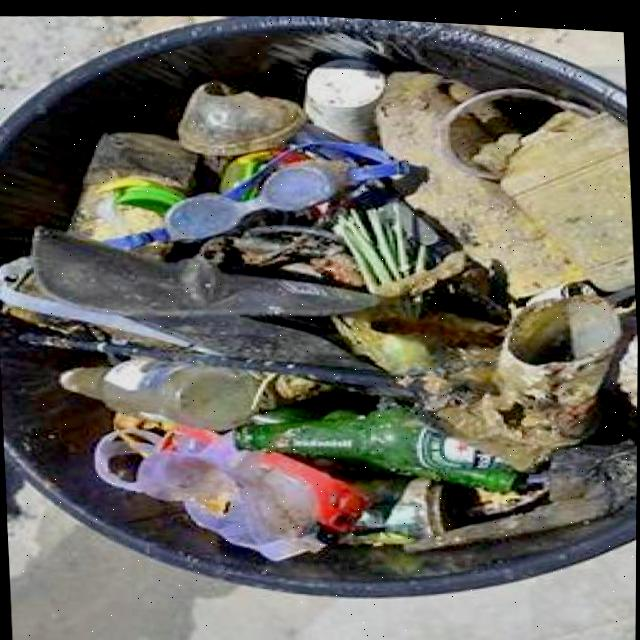Garbage: (0, 13, 638, 592)
Glass_bottle: (234, 405, 522, 486), (59, 356, 260, 428)
Plastic_Container: (500, 106, 634, 282)
